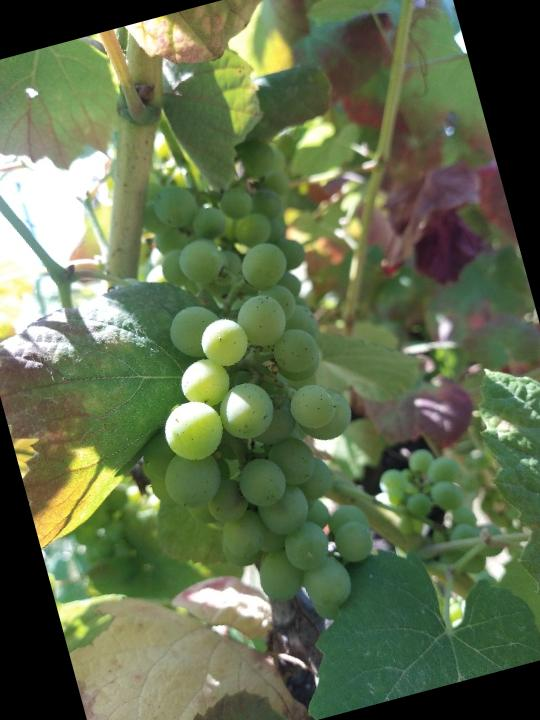grape: (105, 212, 396, 653)
